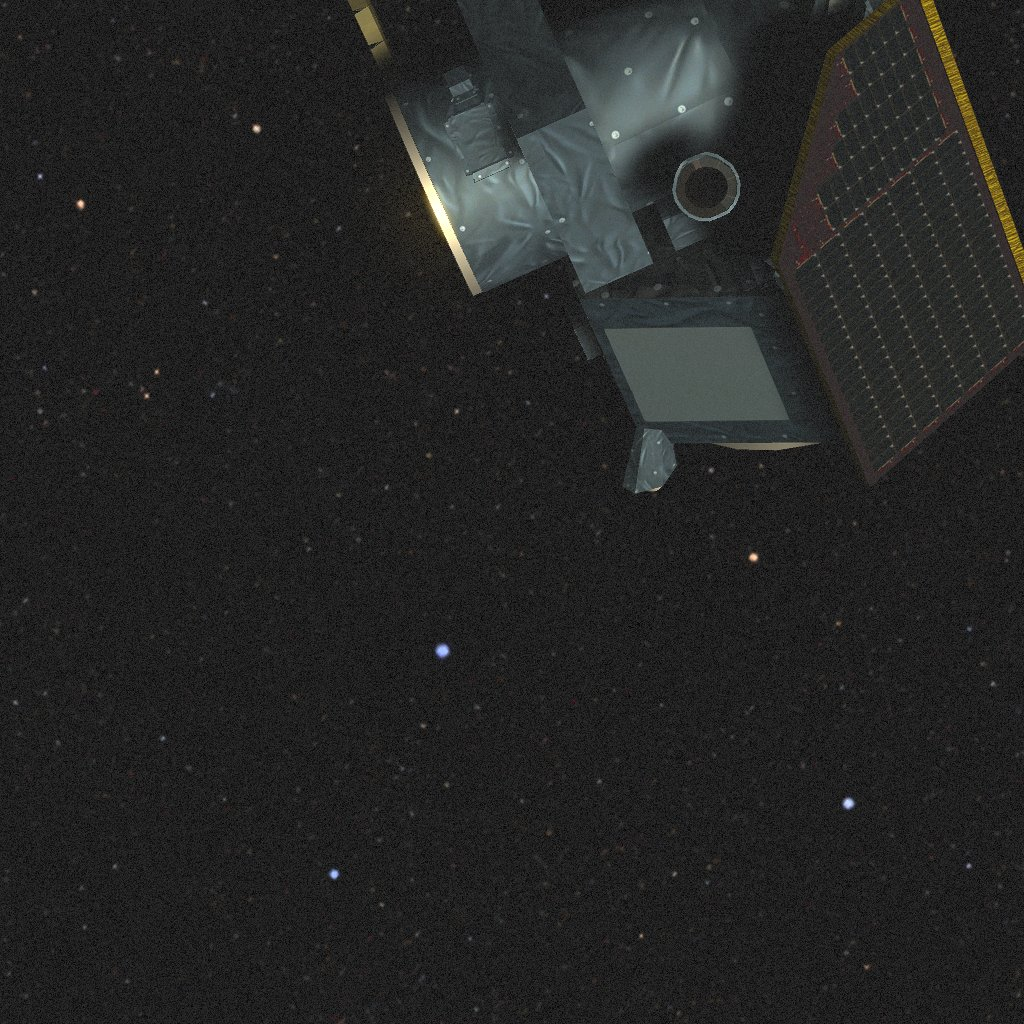cheops: (348, 0, 1024, 493)
